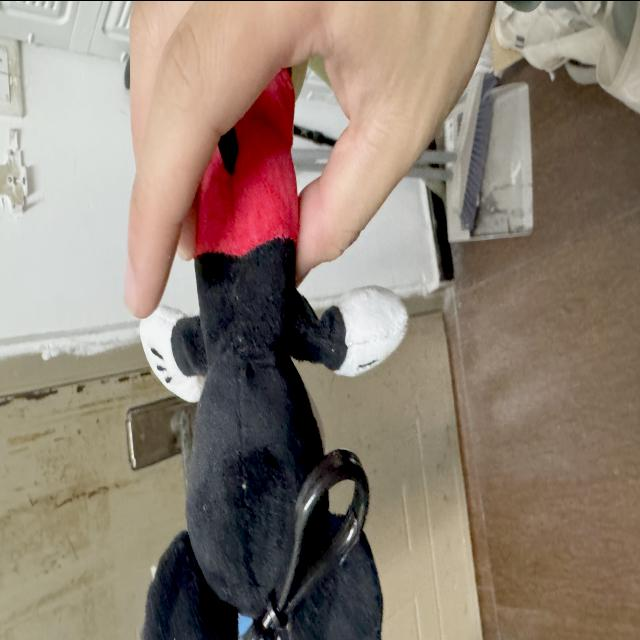mickey: (141, 69, 406, 639)
